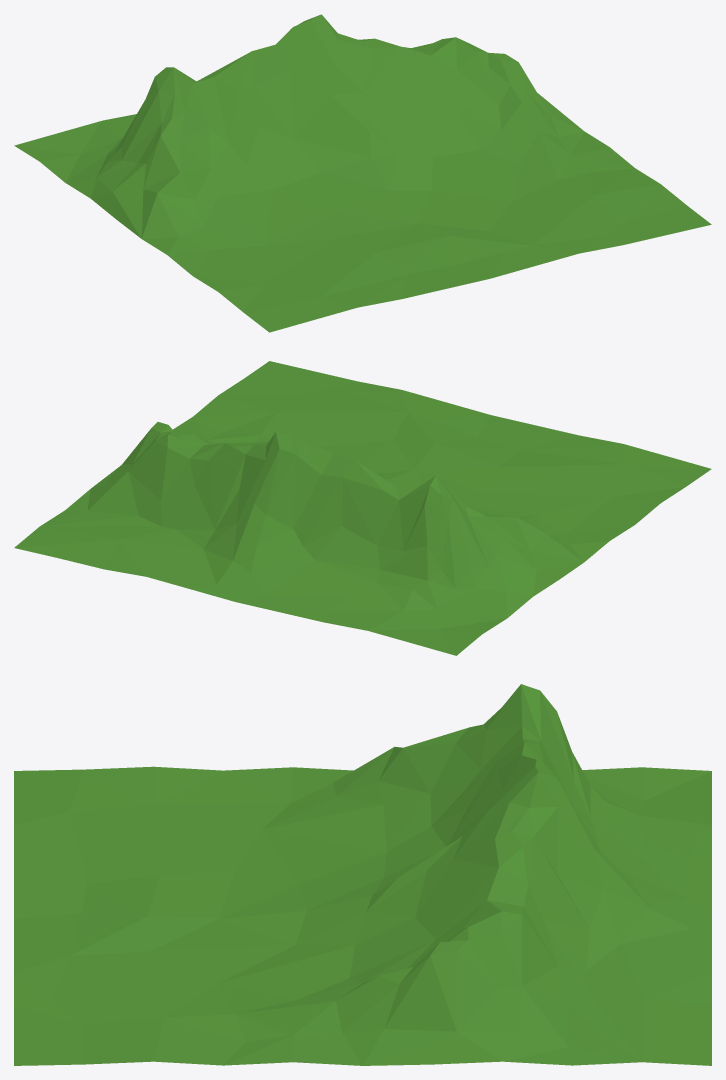
File: terrain-mountain-range.glb
The picture shows the model from 3 angles, top to bottom: view 1: azimuth 30°, elevation 25°; view 2: azimuth 150°, elevation 25°; view 3: azimuth 270°, elevation 25°; orthographic projection. The views are drawn at different scales.
Visible parts, largest first — view 1: terrain-mountain-range; view 2: terrain-mountain-range; view 3: terrain-mountain-range.
Boxes of the visible parts, <box> form: terrain-mountain-range: <box>14,14,711,332</box>; terrain-mountain-range: <box>14,361,711,655</box>; terrain-mountain-range: <box>14,684,711,1065</box>.
Size of the model in its own units: 60 by 15.56 by 60.
1 material, 1 textured.
